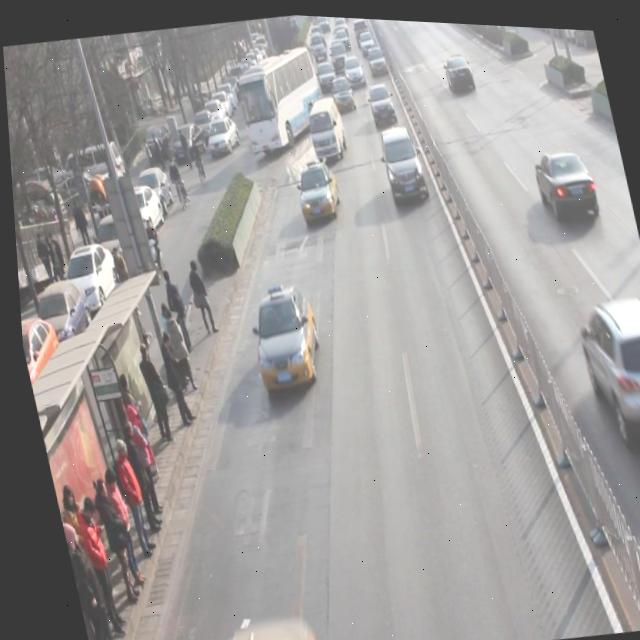car: (571, 288, 640, 444), (240, 280, 327, 396), (529, 137, 600, 219), (374, 118, 430, 205), (185, 603, 316, 640), (290, 157, 343, 225), (441, 48, 478, 93), (364, 78, 397, 125), (328, 71, 358, 112)
truck: (302, 90, 350, 161)
van: (228, 38, 334, 158)
